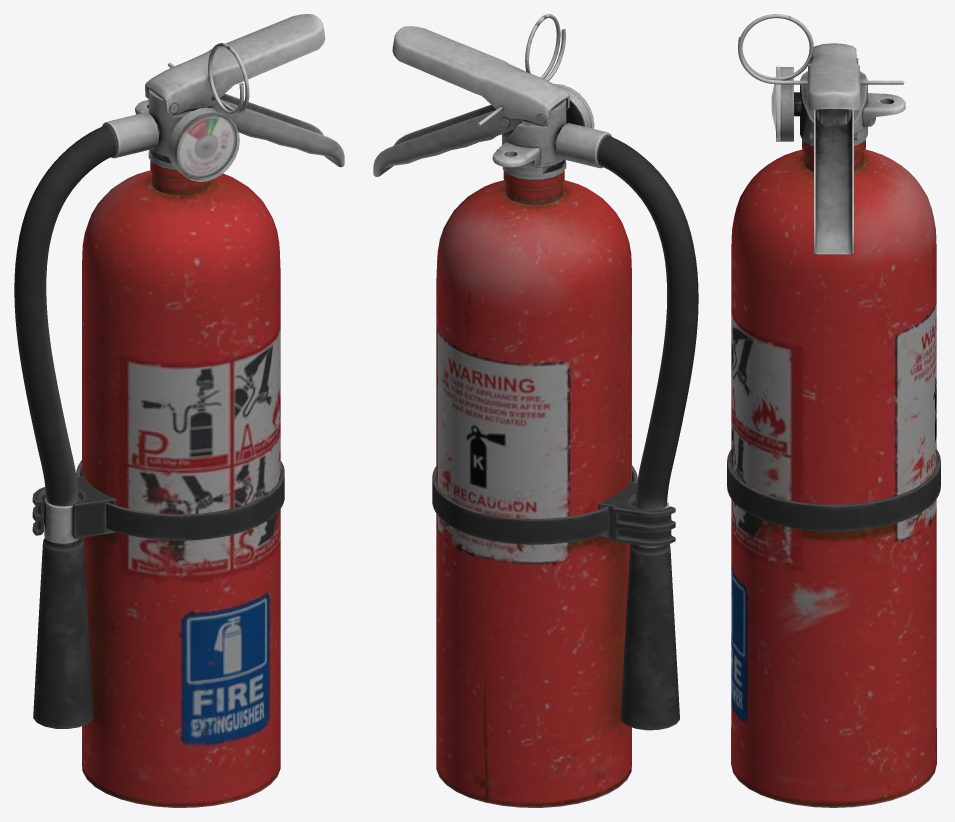
Rendered from fire-extinguisher-20lb.glb.
The picture shows the model from 3 angles, left to right: view 1: azimuth 30°, elevation 25°; view 2: azimuth 150°, elevation 25°; view 3: azimuth 270°, elevation 25°; orthographic projection. The views are drawn at different scales.
Visible parts, largest first — view 1: FireExtinguisher.030, FireExtinguisher.033, FireExtinguisher.034, FireExtinguisher.044, FireExtinguisher.035, FireExtinguisher.032, FireExtinguisher.031, FireExtinguisher.043, Cylinder.004, FireExtinguisher.036, FireExtinguisher.040, FireExtinguisher.037; view 2: FireExtinguisher.030, FireExtinguisher.033, FireExtinguisher.034, FireExtinguisher.044, FireExtinguisher.035, FireExtinguisher.043, FireExtinguisher.036, FireExtinguisher.040, Cylinder.004, FireExtinguisher.037, FireExtinguisher.041, FireExtinguisher.032; view 3: FireExtinguisher.030, FireExtinguisher.035, FireExtinguisher.043, FireExtinguisher.044, FireExtinguisher.040, FireExtinguisher.037, FireExtinguisher.032, FireExtinguisher.041, FireExtinguisher.031.
Boxes of the visible parts, x1,y1,x2,y2 form: FireExtinguisher.030: [82, 160, 280, 807]; FireExtinguisher.033: [14, 125, 117, 506]; FireExtinguisher.034: [33, 538, 93, 728]; FireExtinguisher.044: [145, 14, 325, 115]; FireExtinguisher.035: [76, 460, 284, 540]; FireExtinguisher.032: [168, 107, 236, 179]; FireExtinguisher.031: [174, 112, 239, 181]; FireExtinguisher.043: [191, 93, 344, 167]; Cylinder.004: [44, 112, 160, 543]; FireExtinguisher.036: [32, 475, 116, 538]; FireExtinguisher.040: [148, 88, 192, 169]; FireExtinguisher.037: [168, 43, 249, 115]; FireExtinguisher.030: [436, 170, 631, 807]; FireExtinguisher.033: [597, 135, 698, 510]; FireExtinguisher.034: [620, 544, 679, 730]; FireExtinguisher.044: [392, 26, 569, 125]; FireExtinguisher.035: [432, 465, 637, 544]; FireExtinguisher.043: [373, 104, 523, 176]; FireExtinguisher.036: [598, 480, 675, 546]; FireExtinguisher.040: [502, 99, 566, 179]; Cylinder.004: [554, 123, 668, 547]; FireExtinguisher.037: [477, 14, 565, 126]; FireExtinguisher.041: [492, 141, 540, 168]; FireExtinguisher.032: [558, 86, 591, 128]; FireExtinguisher.030: [731, 139, 936, 807]; FireExtinguisher.035: [727, 449, 940, 531]; FireExtinguisher.043: [814, 110, 853, 254]; FireExtinguisher.044: [807, 43, 860, 109]; FireExtinguisher.040: [800, 71, 867, 146]; FireExtinguisher.037: [738, 14, 904, 84]; FireExtinguisher.032: [780, 67, 801, 141]; FireExtinguisher.041: [862, 93, 905, 126]; FireExtinguisher.031: [771, 66, 780, 141].
Bounding box in the file's own units: 0.3082 × 0.6806 × 0.1735.
2 materials, 2 textured.
